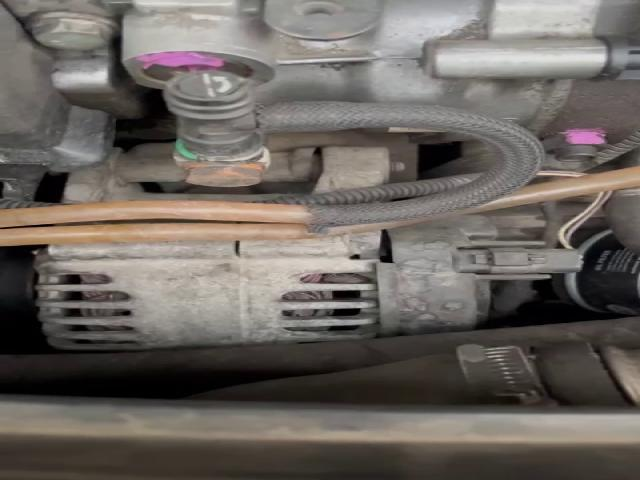alternator: (35, 232, 379, 350)
high_pressure_pump: (7, 0, 640, 186)
